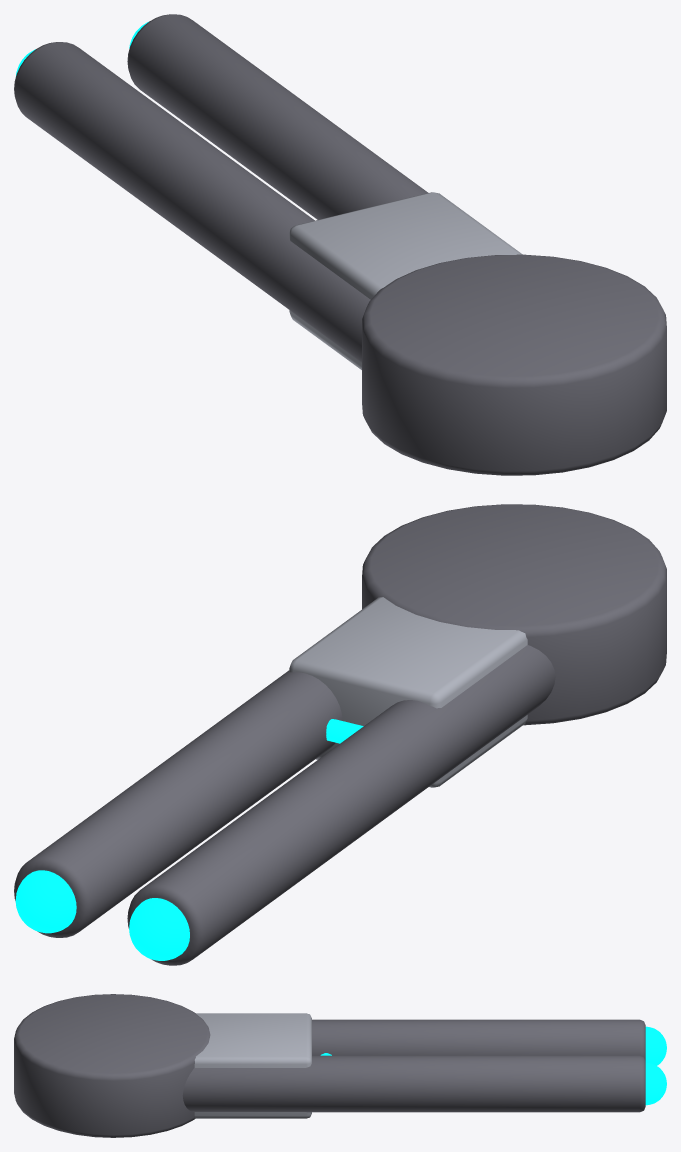
The model's file is laser_repeater.glb.
3 views of the same model, one above another, from view 1: azimuth 30°, elevation 25°; view 2: azimuth 150°, elevation 25°; view 3: azimuth 270°, elevation 25° (orthographic). The views are drawn at different scales.
Visible parts, largest first — view 1: Weapon_LaserRepeater; view 2: Weapon_LaserRepeater; view 3: Weapon_LaserRepeater.
Boxes of the visible parts, x1,y1,x2,y2 form: Weapon_LaserRepeater: (14,14,666,475); Weapon_LaserRepeater: (14,504,666,965); Weapon_LaserRepeater: (14,994,666,1137).
Size of the model in its own units: 0.14 by 0.05 by 0.46.
